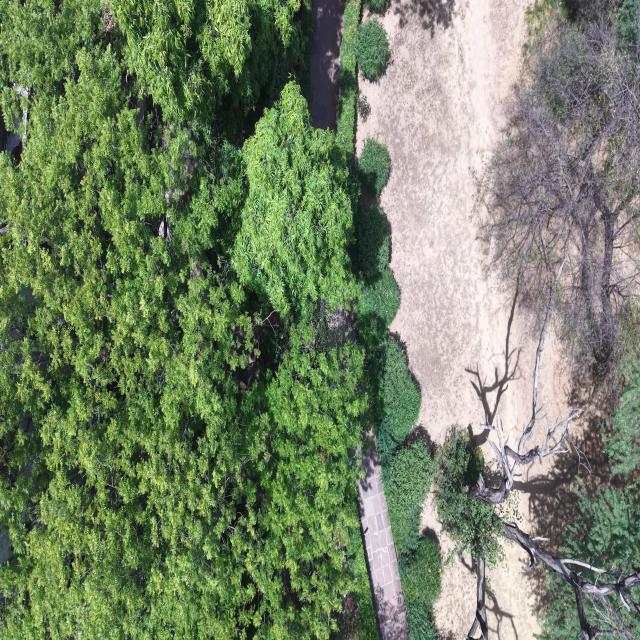DRY_AREA: (357, 0, 536, 462), (357, 446, 407, 639), (357, 447, 407, 639), (309, 0, 342, 129)
VEGETATION_TREE: (0, 0, 639, 639), (0, 0, 538, 639), (0, 0, 368, 639), (353, 2, 639, 639), (435, 1, 639, 639), (490, 0, 639, 636), (435, 289, 639, 639), (478, 1, 639, 368), (434, 411, 639, 639), (435, 432, 639, 639), (351, 202, 440, 593), (351, 204, 433, 553), (352, 206, 434, 554), (232, 82, 355, 312), (355, 207, 434, 563), (108, 0, 306, 126), (559, 310, 639, 581), (351, 202, 419, 463), (355, 286, 420, 466), (382, 438, 440, 639), (433, 428, 515, 567), (434, 429, 503, 567), (350, 205, 399, 397), (351, 202, 399, 392), (558, 478, 639, 568), (602, 308, 639, 474), (381, 439, 434, 551), (398, 535, 440, 639), (380, 335, 420, 444), (604, 351, 639, 473), (340, 528, 378, 639), (335, 0, 360, 156), (522, 0, 576, 57), (398, 535, 440, 608), (355, 266, 399, 325), (355, 206, 389, 276), (355, 16, 389, 80), (358, 138, 389, 196), (612, 0, 639, 46), (405, 601, 437, 639), (355, 93, 370, 121), (363, 0, 389, 14)
